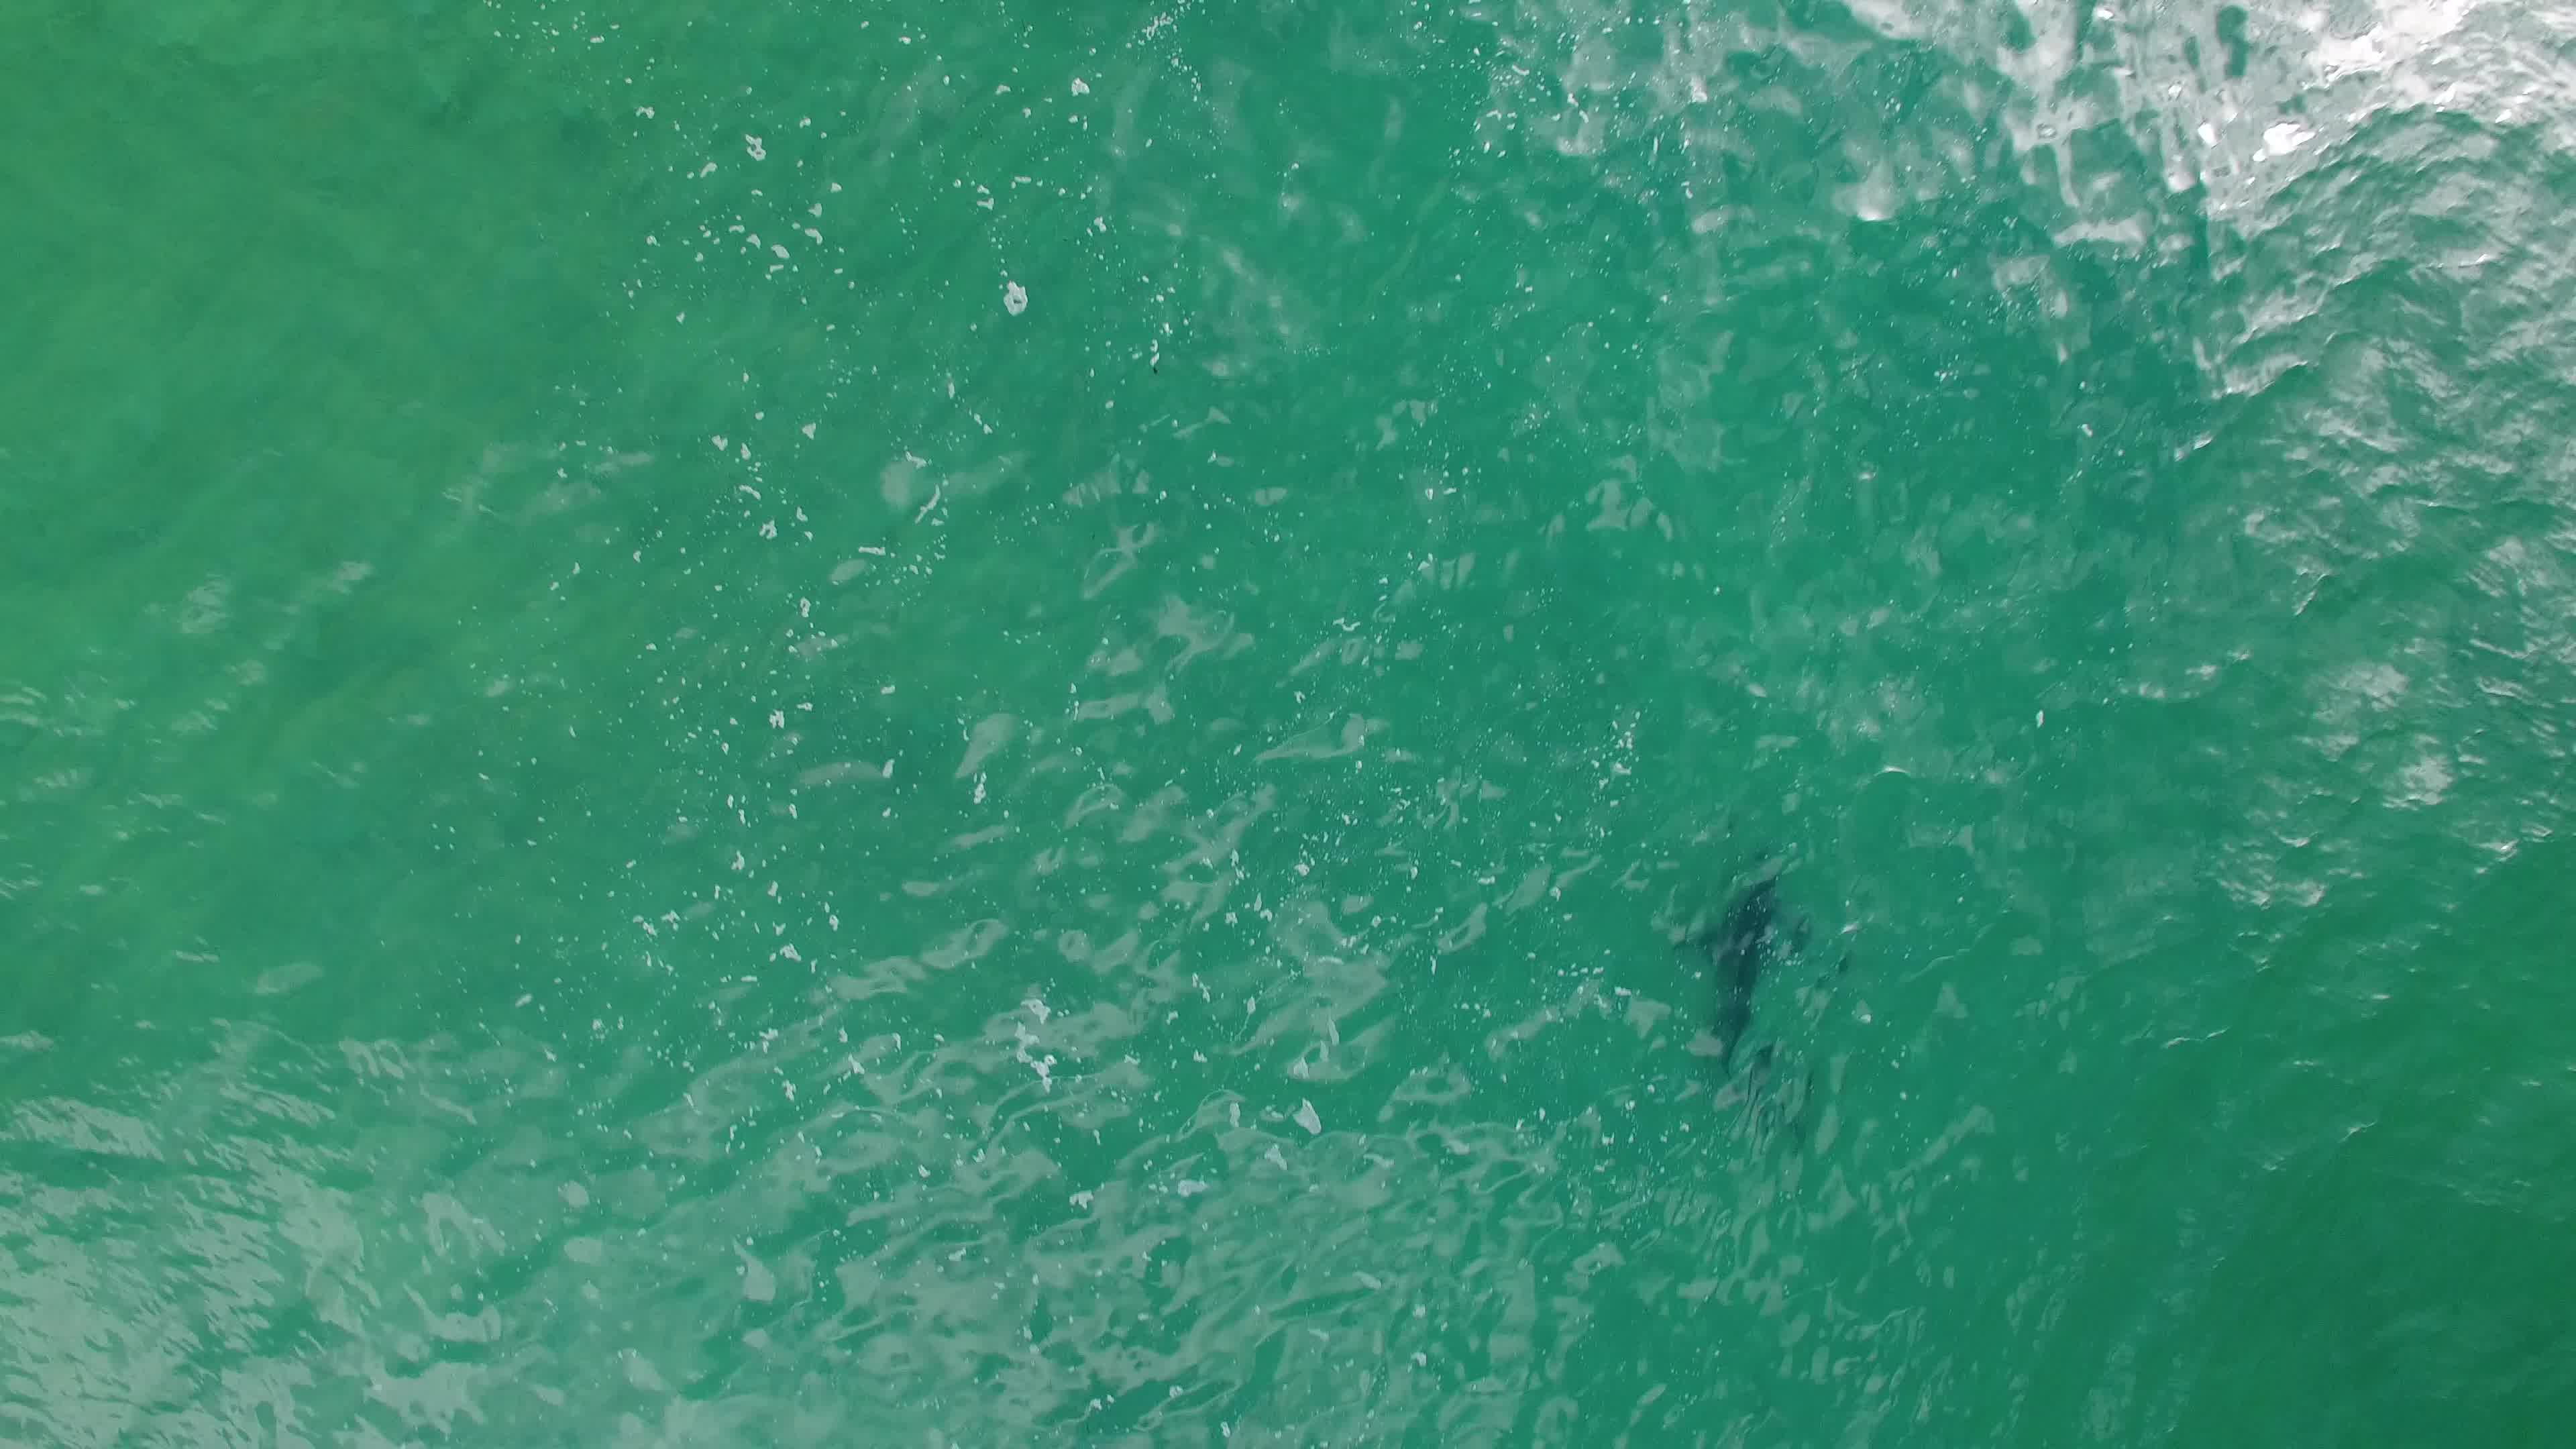shark: (1672, 856, 1824, 1134)
